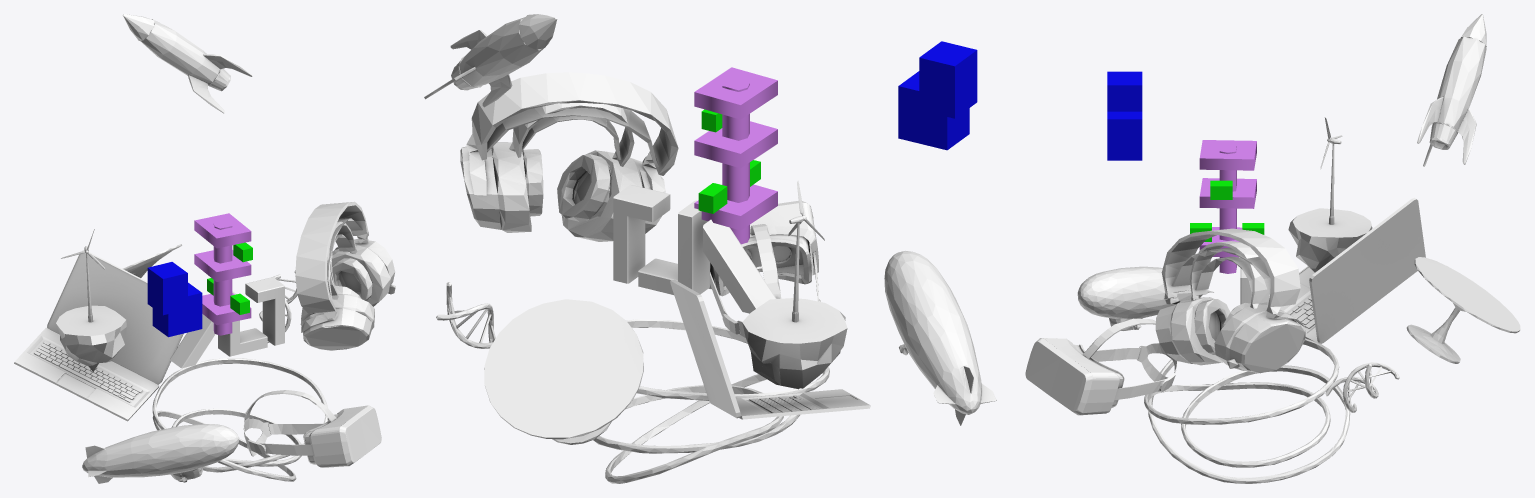
3 views of the same model, side by side, from view 1: azimuth 30°, elevation 25°; view 2: azimuth 150°, elevation 25°; view 3: azimuth 270°, elevation 25° (orthographic). The views are drawn at different scales.
Parts seen in each view (by area): view 1: Notebook, Headphones.001, Zeppelin, VR Headset, tower, Altair Studio-Logo, Rocket.003, Roundcube.001, Curly, 3, Headphones, Table; view 2: Table, Headphones.001, Altair Studio-Logo, tower, Zeppelin, Roundcube.001, 3, Curly, Headphones, Notebook, VR Headset, Rocket.003 (+1 smaller); view 3: Headphones.001, Notebook, VR Headset, Curly, tower, Rocket.003, Zeppelin, Table, Roundcube.001, Headphones, 3, DNA.
Boxes of the visible parts, left/top/right/bottom form: Notebook: left=14, top=250, right=183, bottom=421; Headphones.001: left=295, top=201, right=395, bottom=350; Zeppelin: left=82, top=424, right=239, bottom=483; VR Headset: left=243, top=390, right=381, bottom=467; tower: left=194, top=213, right=252, bottom=335; Altair Studio-Logo: left=170, top=277, right=284, bottom=368; Rocket.003: left=122, top=14, right=252, bottom=113; Roundcube.001: left=56, top=229, right=126, bottom=371; Curly: left=152, top=358, right=327, bottom=481; 3: left=147, top=262, right=202, bottom=337; Headphones: left=327, top=221, right=372, bottom=301; Table: left=122, top=244, right=182, bottom=277; Table: left=484, top=299, right=643, bottom=444; Headphones.001: left=460, top=72, right=678, bottom=241; Altair Studio-Logo: left=613, top=185, right=776, bottom=313; tower: left=694, top=67, right=777, bottom=244; Zeppelin: left=884, top=251, right=996, bottom=425; Roundcube.001: left=742, top=180, right=847, bottom=389; 3: left=898, top=41, right=977, bottom=150; Curly: left=593, top=319, right=829, bottom=483; Headphones: left=509, top=103, right=634, bottom=221; Notebook: left=670, top=279, right=870, bottom=419; VR Headset: left=708, top=201, right=820, bottom=337; Rocket.003: left=424, top=14, right=557, bottom=107; Headphones.001: left=1155, top=228, right=1305, bottom=373; Notebook: left=1269, top=197, right=1425, bottom=343; VR Headset: left=1025, top=318, right=1177, bottom=415; Curly: left=1144, top=338, right=1350, bottom=483; tower: left=1190, top=140, right=1264, bottom=273; Rocket.003: left=1417, top=14, right=1486, bottom=166; Zeppelin: left=1077, top=266, right=1213, bottom=330; Table: left=1406, top=257, right=1520, bottom=363; Roundcube.001: left=1288, top=117, right=1372, bottom=272; Headphones: left=1189, top=241, right=1268, bottom=354; 3: left=1107, top=71, right=1142, bottom=160; DNA: left=1325, top=362, right=1399, bottom=412.
Bounding box in the file's own units: 68.29 × 75.73 × 77.01.
16 materials, 12 textured.
